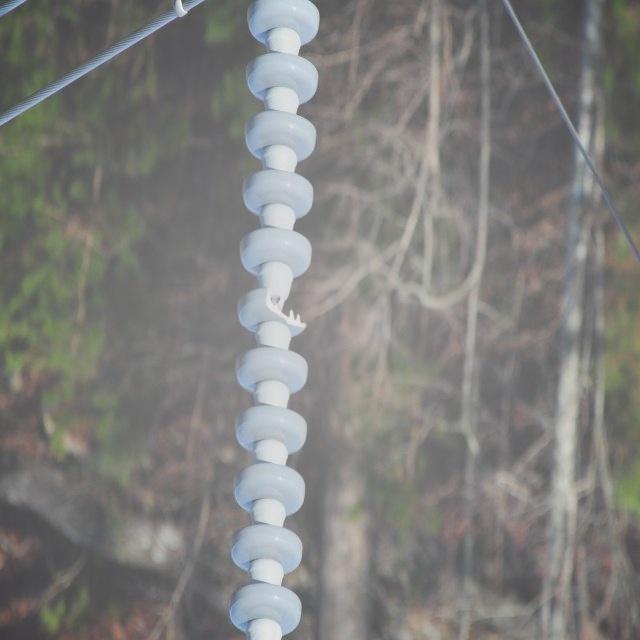broken: (264, 285, 309, 335)
insulator: (227, 0, 321, 633)
